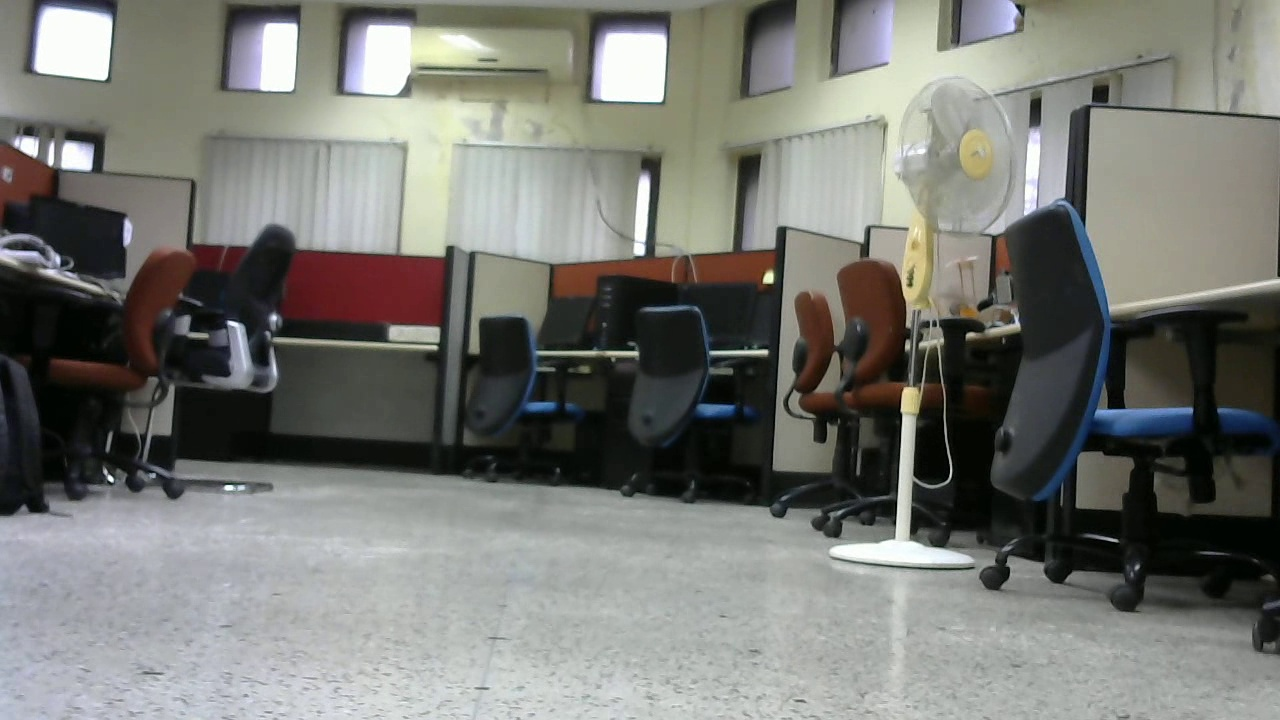chair: (993, 199, 1273, 618), (831, 262, 985, 548), (31, 247, 195, 485), (606, 303, 766, 505), (766, 283, 893, 523), (189, 219, 294, 491), (445, 309, 593, 494)
